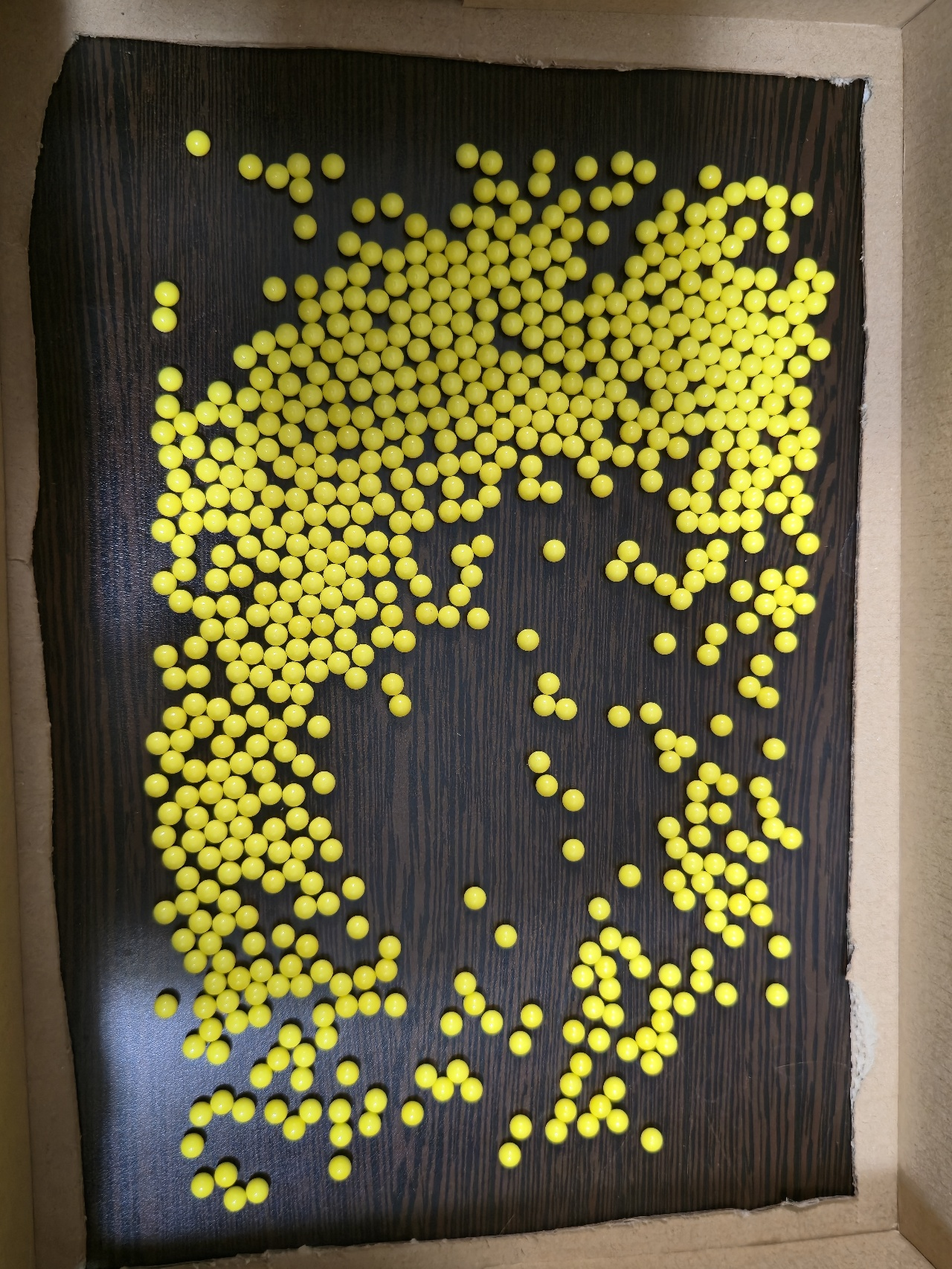yellow_bead: (176, 539, 190, 552), (187, 493, 201, 506), (211, 489, 225, 502), (341, 1067, 354, 1080), (255, 670, 268, 683), (158, 576, 171, 589), (178, 563, 191, 576), (249, 473, 262, 486), (225, 470, 238, 483), (201, 464, 214, 477), (216, 443, 229, 456), (160, 287, 173, 300), (515, 1120, 527, 1134), (305, 1105, 317, 1119), (284, 1030, 296, 1044), (486, 1015, 498, 1029), (783, 832, 797, 844), (216, 550, 230, 562), (550, 1125, 562, 1138), (370, 1094, 382, 1107), (608, 1082, 620, 1095), (607, 1009, 619, 1022), (335, 978, 347, 991), (577, 970, 589, 983), (664, 969, 676, 982), (634, 960, 646, 973), (727, 930, 740, 942), (194, 916, 207, 928), (323, 897, 335, 910), (306, 877, 318, 890), (181, 872, 194, 884), (730, 868, 742, 881), (223, 867, 236, 879), (168, 852, 181, 864), (225, 843, 238, 855), (250, 839, 263, 851), (288, 788, 300, 801), (264, 788, 277, 800), (279, 745, 292, 757), (251, 710, 264, 722), (192, 670, 205, 682), (231, 666, 244, 678), (251, 609, 264, 621), (275, 606, 288, 618), (303, 600, 316, 612), (306, 577, 319, 589), (210, 574, 223, 586), (285, 562, 298, 574), (262, 555, 274, 568), (314, 531, 326, 544), (268, 531, 281, 543), (233, 518, 245, 531), (184, 517, 196, 530), (209, 515, 222, 527), (255, 511, 268, 523), (290, 493, 303, 505), (236, 492, 248, 505), (266, 490, 279, 502), (172, 475, 185, 487), (239, 452, 252, 464), (262, 443, 274, 456), (241, 428, 254, 440), (179, 417, 191, 430), (201, 407, 213, 420), (213, 387, 226, 399), (796, 198, 808, 211), (729, 187, 741, 200), (504, 1148, 515, 1162), (646, 1133, 657, 1147), (515, 1036, 526, 1050), (594, 1033, 605, 1047), (446, 1017, 457, 1031), (526, 1009, 537, 1023), (588, 1001, 599, 1015), (161, 312, 171, 327), (334, 1105, 346, 1117), (298, 1049, 310, 1061), (160, 1001, 172, 1013), (654, 993, 666, 1005), (771, 989, 783, 1001), (774, 941, 786, 953), (178, 934, 190, 946), (277, 930, 289, 942), (756, 909, 768, 921), (300, 901, 312, 913), (751, 884, 763, 896), (288, 864, 300, 876), (204, 852, 216, 864), (752, 846, 764, 858), (297, 842, 309, 854), (210, 826, 222, 838), (268, 823, 280, 835), (314, 823, 326, 835), (164, 807, 176, 819), (219, 804, 231, 816), (152, 737, 164, 749), (237, 688, 249, 700), (269, 652, 281, 664), (454, 589, 466, 601), (347, 583, 359, 595), (310, 554, 322, 566), (712, 544, 724, 556), (158, 524, 170, 536), (332, 510, 344, 522), (407, 493, 419, 505), (747, 492, 759, 504), (364, 479, 376, 491), (320, 460, 332, 472), (187, 440, 199, 452), (284, 429, 296, 441), (288, 405, 300, 417), (242, 393, 254, 405), (756, 379, 768, 391), (239, 351, 251, 363), (258, 337, 270, 349), (797, 329, 809, 341), (749, 295, 761, 307), (768, 213, 780, 225), (466, 1084, 477, 1097), (420, 1070, 431, 1083), (452, 1065, 463, 1078), (646, 1057, 657, 1070), (390, 999, 401, 1012), (679, 997, 690, 1010), (460, 977, 471, 990), (247, 863, 260, 874), (768, 823, 781, 834), (251, 740, 264, 751), (159, 650, 172, 661), (270, 629, 283, 640), (286, 516, 299, 527), (278, 461, 291, 472), (791, 414, 804, 425), (751, 181, 762, 194), (228, 720, 242, 730), (335, 1131, 347, 1142), (212, 1048, 224, 1059), (232, 1017, 243, 1029), (318, 1009, 329, 1021), (222, 997, 234, 1008), (721, 988, 732, 1000), (696, 976, 707, 988), (316, 965, 327, 977), (696, 954, 708, 965), (585, 947, 596, 959), (625, 942, 636, 954), (248, 937, 260, 948), (605, 933, 616, 945), (501, 930, 512, 942), (352, 921, 364, 932), (160, 906, 171, 918), (594, 903, 605, 915), (181, 897, 192, 909), (223, 896, 235, 907), (469, 892, 480, 904), (348, 882, 359, 894), (669, 875, 681, 886), (710, 858, 721, 870), (274, 846, 285, 858), (158, 831, 170, 842), (663, 822, 675, 833), (714, 808, 726, 819), (568, 794, 579, 806), (181, 791, 192, 803), (692, 786, 704, 797), (258, 765, 270, 776), (298, 759, 309, 771), (660, 734, 672, 745), (289, 710, 300, 722), (744, 681, 755, 693), (350, 672, 362, 683), (311, 666, 323, 677), (333, 657, 344, 669), (246, 647, 258, 658), (292, 644, 303, 656), (315, 643, 327, 654), (340, 634, 352, 645), (778, 612, 790, 623), (361, 603, 373, 614), (380, 586, 392, 597), (736, 585, 747, 597), (765, 574, 777, 585), (611, 565, 623, 576), (292, 539, 304, 550), (747, 537, 759, 548), (724, 516, 736, 527), (394, 516, 406, 527), (309, 508, 321, 519), (796, 499, 808, 510), (164, 498, 176, 509), (724, 495, 736, 506), (319, 487, 331, 498), (546, 486, 557, 498), (786, 481, 798, 492), (396, 473, 408, 484), (300, 472, 312, 483), (422, 468, 433, 480), (343, 464, 355, 475), (526, 460, 537, 472), (774, 460, 786, 471), (466, 457, 477, 469), (800, 454, 812, 465), (643, 453, 654, 465), (521, 432, 533, 443), (773, 420, 785, 431), (263, 418, 274, 430), (730, 414, 742, 425), (283, 379, 295, 390), (255, 373, 267, 384), (342, 363, 353, 375), (273, 356, 285, 367), (813, 344, 825, 355), (758, 340, 769, 352), (809, 298, 821, 309), (773, 295, 785, 306), (817, 277, 829, 288), (761, 273, 772, 285), (800, 263, 811, 275), (771, 190, 782, 202), (623, 1043, 633, 1056), (228, 781, 241, 791), (212, 703, 225, 713), (188, 698, 201, 708), (230, 623, 243, 633), (174, 595, 187, 605), (342, 488, 355, 498), (242, 544, 256, 553), (604, 984, 615, 995), (296, 981, 307, 992), (256, 965, 267, 976), (190, 956, 201, 967), (710, 917, 721, 928), (679, 894, 690, 905), (202, 885, 213, 896), (697, 877, 708, 888), (624, 870, 635, 881), (687, 858, 698, 869), (568, 844, 579, 855), (732, 836, 743, 847), (614, 711, 625, 722), (646, 708, 657, 719), (539, 700, 550, 711), (387, 678, 398, 689), (357, 649, 368, 660), (660, 638, 671, 649), (523, 634, 534, 645), (742, 618, 753, 629), (443, 611, 454, 622), (676, 594, 687, 605), (416, 580, 427, 591), (689, 576, 700, 587), (457, 550, 468, 561), (623, 546, 634, 557), (549, 545, 560, 556), (787, 519, 798, 530), (704, 518, 715, 529), (682, 516, 693, 527), (771, 498, 782, 509), (448, 482, 459, 493), (698, 475, 709, 486), (583, 461, 594, 472), (443, 459, 454, 470), (704, 454, 715, 465), (568, 441, 579, 452), (717, 435, 728, 446), (742, 433, 753, 444), (586, 424, 597, 435), (461, 423, 472, 434), (388, 423, 399, 434), (689, 419, 700, 430), (562, 419, 573, 430), (411, 417, 422, 428), (710, 414, 721, 425), (753, 414, 764, 425), (553, 397, 564, 408), (306, 390, 317, 401), (356, 384, 367, 395), (313, 367, 324, 378), (768, 361, 779, 372), (364, 357, 375, 368), (333, 319, 344, 330), (269, 284, 280, 295), (739, 273, 750, 284), (718, 266, 729, 277), (582, 1122, 594, 1132), (662, 1038, 672, 1050), (254, 1012, 266, 1022), (273, 980, 283, 992), (218, 956, 230, 966), (187, 836, 199, 846), (190, 812, 202, 822), (243, 799, 255, 809), (755, 783, 767, 793), (318, 777, 330, 787), (212, 764, 224, 774), (534, 756, 544, 768), (544, 678, 554, 690), (756, 660, 768, 670), (222, 644, 234, 654), (780, 637, 792, 647), (205, 624, 217, 634), (198, 604, 210, 614), (791, 571, 803, 581), (329, 569, 341, 579), (802, 539, 814, 549), (371, 536, 383, 546), (356, 507, 368, 517), (364, 456, 376, 466), (387, 452, 399, 462), (596, 444, 608, 454), (408, 440, 418, 452), (480, 438, 492, 448), (441, 435, 451, 447), (367, 433, 379, 443), (779, 379, 789, 391), (379, 376, 389, 388), (774, 321, 784, 333), (732, 312, 742, 324), (271, 171, 283, 181), (364, 997, 373, 1010), (150, 780, 163, 789), (176, 734, 189, 743), (273, 686, 286, 695), (168, 672, 181, 681), (298, 449, 311, 458), (255, 1072, 266, 1082), (209, 979, 220, 989), (601, 962, 611, 973), (285, 960, 295, 971), (385, 942, 396, 952), (205, 938, 216, 948), (326, 844, 337, 854), (691, 808, 702, 818), (665, 756, 675, 767), (769, 744, 780, 754), (681, 741, 691, 752), (704, 649, 714, 660), (711, 629, 722, 639), (472, 613, 483, 623), (800, 599, 811, 609), (710, 567, 721, 577), (350, 560, 361, 570), (418, 514, 428, 525), (467, 504, 477, 515), (378, 498, 389, 508), (696, 498, 706, 509), (675, 493, 685, 504), (646, 476, 657, 486), (757, 473, 768, 483), (733, 453, 744, 463), (501, 452, 512, 462), (618, 450, 628, 461), (547, 439, 557, 450), (498, 423, 509, 433), (538, 415, 548, 426), (311, 414, 322, 424), (516, 410, 527, 420), (380, 400, 390, 411), (163, 400, 174, 410), (768, 399, 779, 409), (681, 397, 691, 408), (722, 395, 732, 406), (403, 395, 413, 406), (732, 375, 742, 386), (747, 360, 757, 371), (414, 344, 424, 355), (684, 343, 695, 353), (349, 338, 359, 349), (437, 331, 448, 341), (282, 330, 292, 341), (417, 319, 427, 330), (508, 318, 518, 329), (437, 307, 447, 318), (350, 293, 361, 303), (392, 278, 402, 289), (411, 247, 422, 257), (218, 919, 230, 928), (736, 899, 745, 911), (216, 740, 228, 749), (168, 712, 180, 721), (190, 642, 202, 651), (376, 632, 388, 641), (260, 587, 272, 596), (235, 570, 247, 579), (332, 546, 344, 555), (349, 530, 361, 539), (168, 373, 177, 385), (706, 348, 715, 360), (357, 315, 366, 327), (742, 222, 751, 234), (325, 596, 338, 604), (285, 589, 298, 597), (566, 1080, 576, 1090), (672, 843, 682, 853), (695, 831, 705, 841), (705, 768, 715, 778), (717, 720, 727, 730), (561, 704, 571, 714), (661, 579, 671, 589), (654, 433, 664, 443), (576, 401, 586, 411), (546, 376, 556, 386), (603, 364, 613, 374), (297, 350, 307, 360), (395, 330, 405, 340), (309, 329, 319, 339), (396, 306, 406, 316), (327, 296, 337, 306), (456, 294, 466, 304), (551, 272, 561, 282), (252, 1185, 263, 1194), (321, 1035, 332, 1044), (568, 1029, 579, 1038), (253, 989, 262, 1000), (167, 756, 178, 765), (395, 700, 406, 709), (763, 693, 774, 702), (374, 559, 385, 568), (484, 491, 495, 500), (166, 451, 177, 460), (669, 417, 678, 428), (658, 394, 667, 405), (701, 390, 710, 401), (448, 378, 457, 389), (712, 370, 721, 381), (692, 364, 701, 375), (628, 364, 637, 375), (389, 352, 398, 363), (739, 335, 748, 346), (480, 327, 489, 338), (753, 318, 762, 329), (690, 301, 699, 312), (375, 295, 384, 306), (728, 290, 737, 301), (712, 202, 721, 213), (195, 1109, 207, 1117), (235, 825, 247, 833), (287, 670, 299, 678), (745, 518, 757, 526), (501, 395, 509, 407), (646, 350, 654, 362), (438, 283, 446, 295), (222, 604, 235, 611), (199, 1004, 209, 1013), (242, 910, 252, 919), (781, 591, 791, 600), (444, 505, 454, 514), (525, 483, 535, 492), (486, 468, 496, 477), (645, 413, 654, 423), (625, 404, 634, 414), (599, 403, 608, 413), (454, 401, 463, 411), (426, 390, 435, 400), (472, 388, 481, 398), (515, 379, 524, 389), (402, 372, 411, 382), (528, 361, 538, 370), (659, 333, 668, 343), (718, 330, 727, 340), (697, 324, 706, 334), (570, 306, 579, 316), (483, 304, 492, 314), (549, 295, 558, 305), (630, 284, 639, 294), (706, 248, 715, 258), (663, 216, 672, 226), (692, 209, 701, 219), (196, 141, 205, 151), (239, 1104, 250, 1112), (644, 1032, 652, 1043), (292, 817, 303, 825), (725, 779, 733, 790), (297, 691, 308, 699), (422, 608, 433, 616), (466, 574, 477, 582), (477, 540, 488, 548), (396, 540, 407, 548), (533, 393, 541, 404), (613, 385, 621, 396), (674, 376, 682, 387), (463, 341, 471, 352), (620, 188, 628, 199), (298, 184, 306, 195), (296, 1075, 308, 1082), (640, 572, 652, 579), (660, 1018, 669, 1027), (765, 803, 774, 812), (190, 765, 199, 774), (675, 443, 684, 452), (322, 437, 331, 446), (434, 414, 443, 423), (571, 355, 580, 364), (669, 294, 678, 303), (332, 274, 341, 283), (518, 240, 527, 249), (550, 211, 559, 220), (295, 161, 304, 170), (438, 1086, 446, 1096), (304, 939, 312, 949), (387, 610, 397, 618), (598, 481, 608, 489), (158, 426, 168, 434), (591, 382, 599, 392), (653, 373, 661, 383), (508, 357, 516, 367), (460, 318, 468, 328), (656, 311, 664, 321), (530, 308, 538, 318), (614, 298, 622, 308), (529, 284, 537, 294), (652, 278, 660, 288), (668, 263, 676, 273), (640, 167, 650, 175), (584, 163, 592, 173), (335, 1166, 346, 1173), (205, 787, 216, 794), (313, 725, 324, 732), (196, 721, 207, 728), (760, 603, 771, 610), (401, 567, 412, 574), (692, 558, 703, 565), (552, 321, 559, 332), (678, 319, 685, 330), (223, 1172, 232, 1180), (410, 1111, 418, 1120), (275, 1057, 283, 1066), (383, 966, 392, 974), (541, 785, 553, 791), (271, 725, 280, 733), (294, 621, 303, 629), (360, 413, 368, 422), (266, 399, 278, 405), (425, 367, 434, 375), (416, 295, 425, 303), (457, 271, 465, 280), (415, 271, 423, 280), (356, 269, 364, 278), (634, 262, 642, 271), (538, 254, 546, 263), (644, 227, 652, 236), (482, 212, 490, 221), (706, 171, 715, 179), (620, 158, 628, 167), (473, 999, 480, 1009), (531, 332, 538, 342), (639, 330, 646, 340), (636, 306, 643, 316), (498, 271, 505, 281), (370, 248, 377, 258), (485, 409, 491, 420), (391, 256, 399, 264), (496, 247, 504, 255), (459, 211, 467, 219), (537, 179, 545, 187), (343, 1004, 350, 1013), (620, 344, 627, 353), (597, 323, 604, 332), (559, 245, 566, 254), (539, 230, 546, 239), (303, 222, 310, 231), (672, 195, 679, 204), (506, 187, 513, 196), (341, 615, 351, 621), (710, 284, 716, 294), (520, 264, 526, 274), (477, 234, 483, 244), (598, 227, 604, 237), (346, 433, 354, 440), (629, 427, 637, 434), (486, 351, 493, 359), (476, 259, 483, 267), (347, 240, 355, 247), (466, 151, 473, 159), (564, 1108, 570, 1117), (361, 971, 367, 980), (553, 347, 559, 356), (715, 308, 721, 317), (509, 292, 515, 301), (575, 263, 581, 272), (600, 193, 606, 202), (208, 1029, 215, 1036), (671, 356, 677, 364), (620, 322, 626, 330), (309, 306, 315, 314), (653, 249, 659, 257), (520, 206, 526, 214), (391, 201, 397, 209), (230, 1193, 239, 1198), (242, 760, 248, 767), (808, 432, 815, 438), (570, 380, 577, 386), (471, 366, 476, 374), (480, 283, 485, 291), (603, 280, 608, 288), (333, 163, 338, 171), (225, 409, 234, 413), (376, 337, 382, 343), (434, 237, 440, 243), (543, 157, 549, 163), (364, 1120, 371, 1125), (447, 356, 452, 363), (574, 334, 579, 341), (594, 301, 599, 308), (457, 249, 462, 256), (695, 234, 700, 241), (485, 185, 490, 192), (402, 640, 410, 644), (332, 345, 336, 353), (795, 308, 803, 312), (691, 278, 695, 286), (617, 1114, 623, 1119), (581, 1064, 586, 1070), (333, 388, 338, 394), (306, 283, 311, 289), (573, 225, 578, 231), (492, 158, 497, 164), (197, 1180, 204, 1184), (736, 475, 743, 479), (746, 395, 753, 399), (495, 375, 499, 382), (595, 347, 599, 354), (506, 223, 510, 230), (691, 257, 695, 263), (235, 412, 238, 419), (791, 288, 794, 295), (571, 196, 574, 203), (676, 239, 679, 245), (340, 413, 344, 417), (437, 263, 441, 267), (364, 208, 368, 212), (193, 136, 201, 138), (602, 1106, 605, 1111), (715, 894, 720, 897), (372, 1122, 376, 1125), (760, 450, 765, 452), (239, 977, 242, 980), (780, 344, 783, 347), (784, 342, 788, 344), (190, 1042, 193, 1044), (167, 412, 170, 414), (280, 1112, 282, 1114), (799, 392, 803, 393), (793, 365, 794, 369), (714, 225, 718, 226), (788, 440, 791, 441), (779, 236, 782, 237), (255, 165, 256, 168), (273, 884, 275, 885), (327, 623, 329, 624), (735, 480, 736, 482), (164, 439, 166, 440), (795, 398, 796, 400), (772, 242, 773, 244), (732, 240, 734, 241), (276, 883, 277, 884), (236, 764, 237, 765), (235, 762, 236, 763), (175, 461, 176, 462), (784, 445, 785, 446), (795, 443, 796, 444), (785, 442, 786, 443), (787, 441, 788, 442), (161, 404, 162, 405), (799, 361, 800, 362), (730, 353, 731, 354), (775, 247, 776, 248), (202, 140, 203, 141), (623, 1120, 623, 1121), (199, 1047, 199, 1050), (721, 899, 722, 899), (711, 899, 712, 899), (268, 881, 268, 881), (782, 832, 782, 833), (744, 476, 744, 477), (766, 454, 767, 454), (756, 454, 756, 454), (186, 446, 187, 446), (785, 443, 785, 444), (161, 406, 161, 407), (804, 393, 805, 393), (797, 372, 797, 373), (794, 364, 795, 364), (788, 344, 789, 344), (791, 314, 791, 315), (796, 286, 797, 286), (773, 245, 774, 245), (713, 226, 713, 227), (418, 225, 419, 225), (248, 173, 251, 173), (248, 161, 251, 161)
